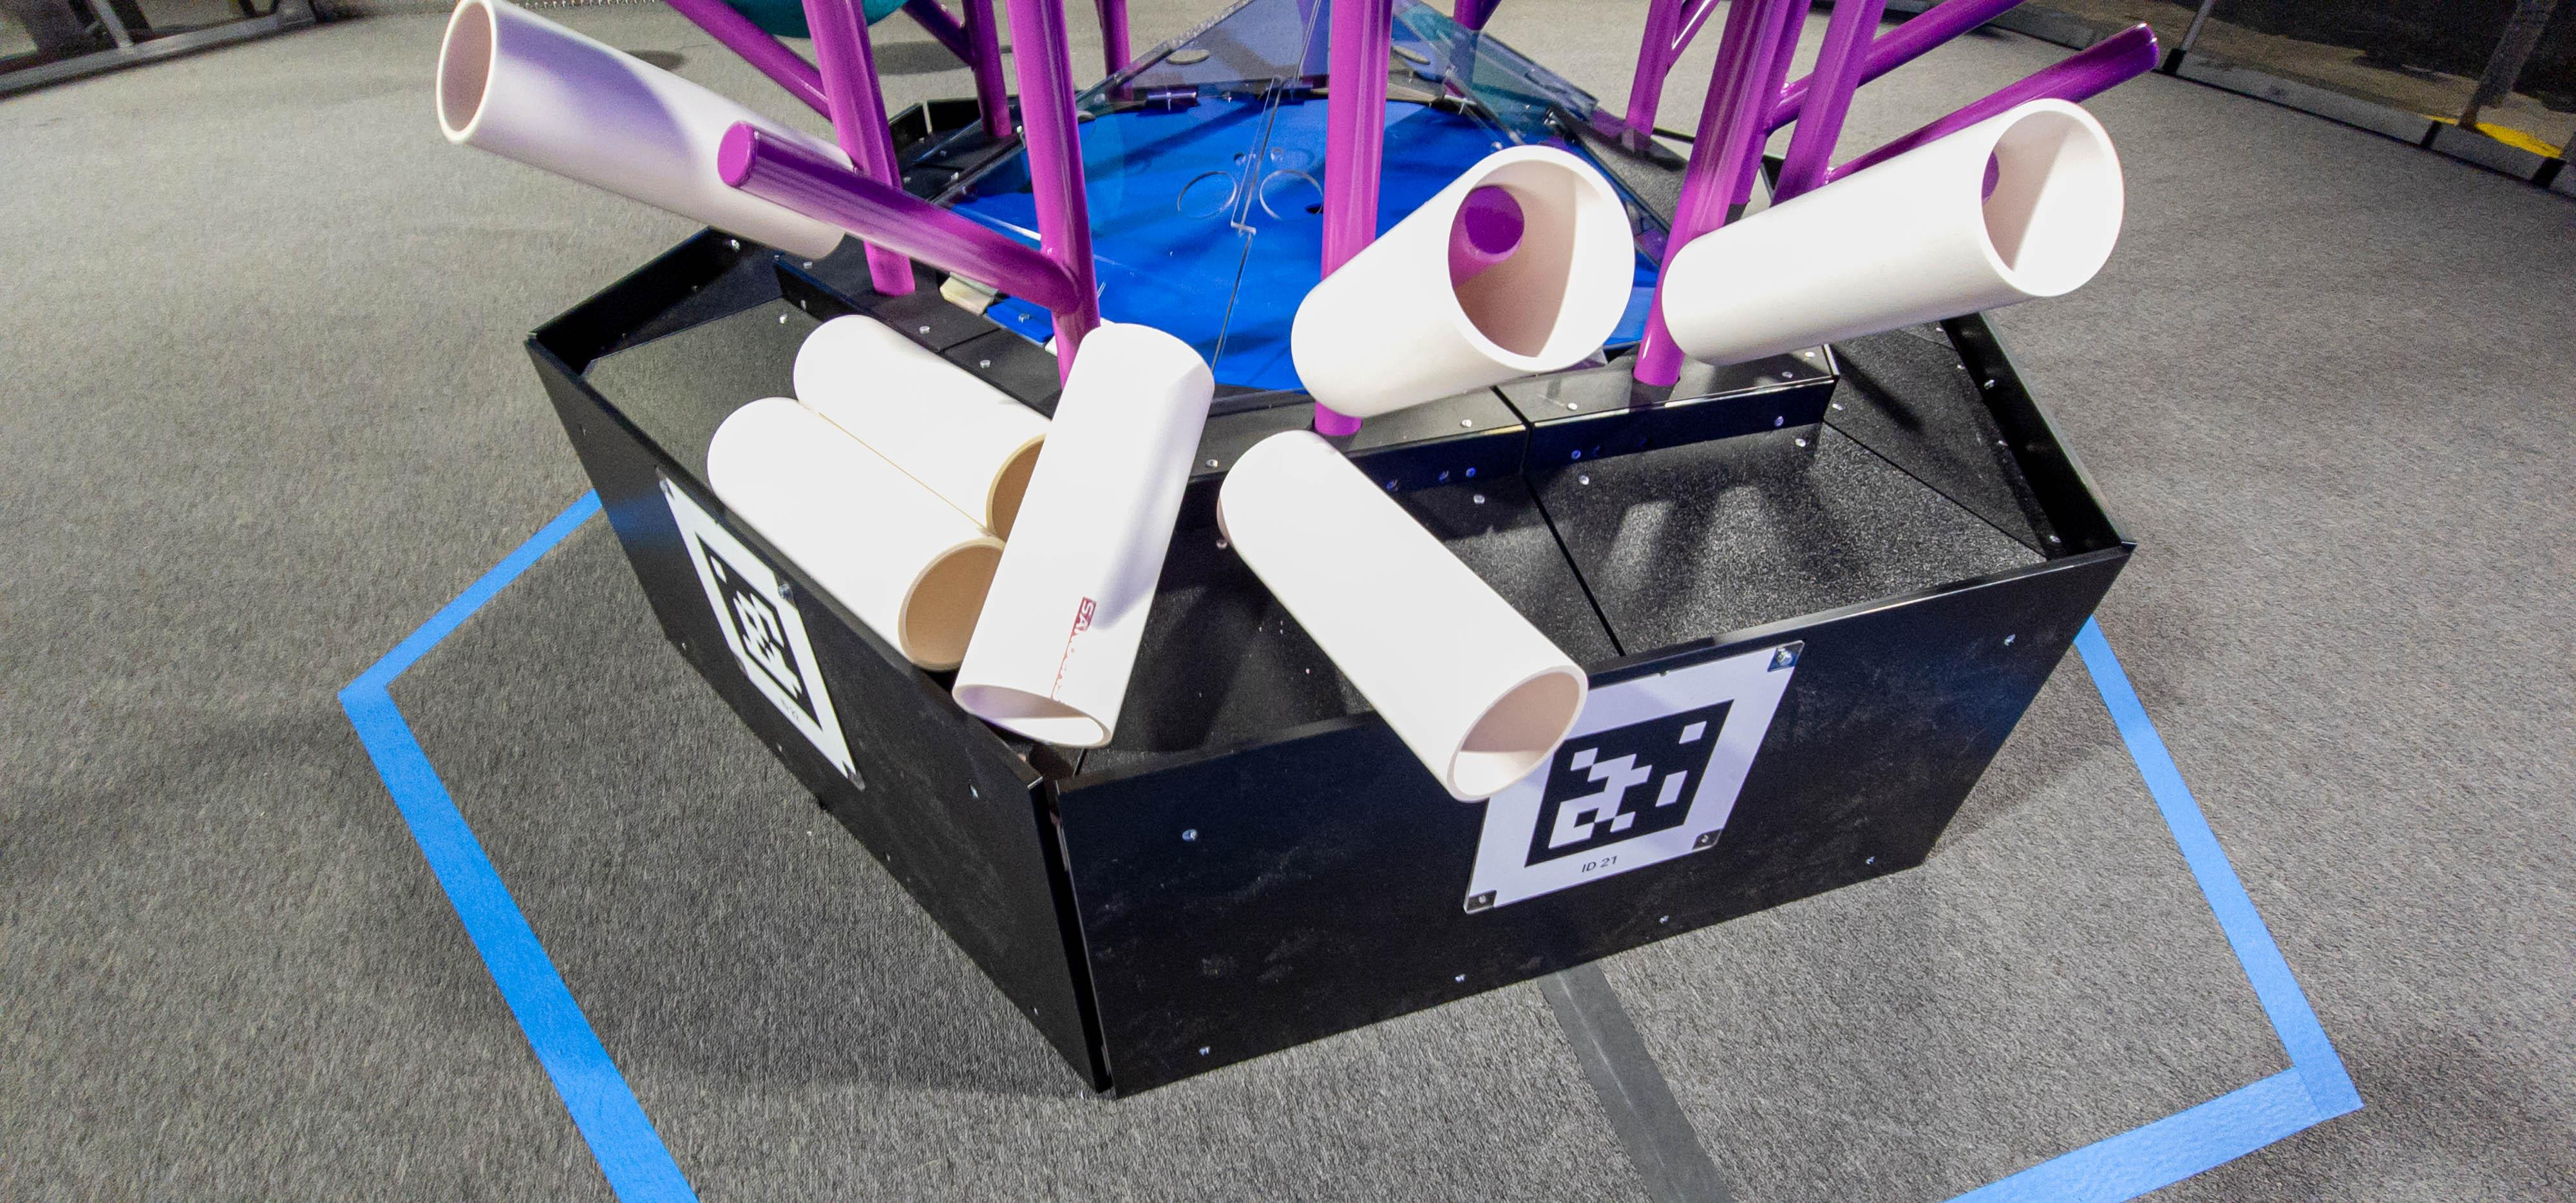CORAL: (1217, 429, 1589, 807), (1664, 97, 2126, 368), (950, 324, 1217, 751), (439, 0, 853, 260), (1291, 145, 1635, 421), (708, 396, 1002, 669), (793, 314, 1053, 537)
